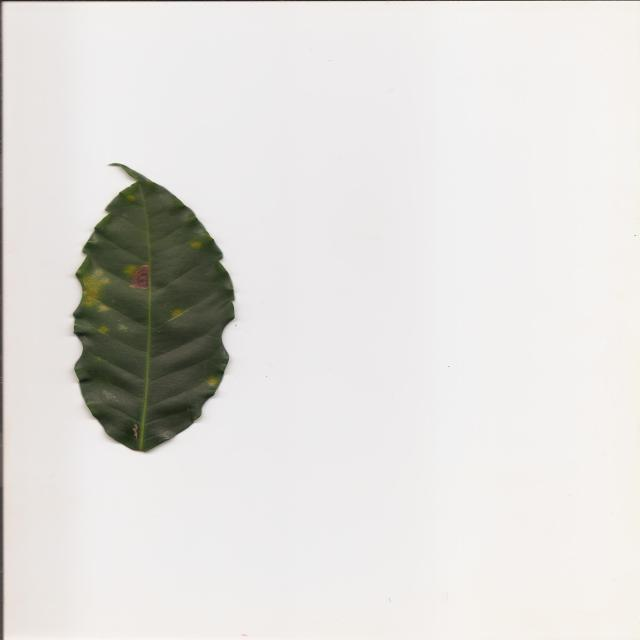Enfermedad-Roya: (71, 166, 238, 455)
